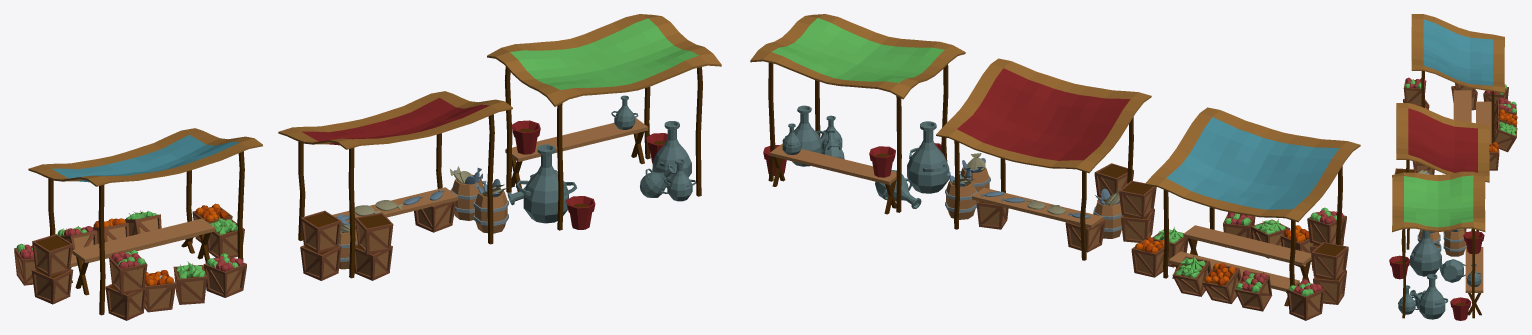
File: props.fbx
3 renders of one model, left to right at view 1: azimuth 30°, elevation 25°; view 2: azimuth 150°, elevation 25°; view 3: azimuth 270°, elevation 25°, orthographic. The views are drawn at different scales.
Parts seen in each view (by area): view 1: polySurface483, polySurface528, polySurface636, polySurface493, polySurface585, polySurface484, polySurface543, polySurface643, polySurface541, polySurface490, polySurface542, polySurface641 (+26 smaller); view 2: polySurface636, polySurface528, polySurface483, polySurface493, polySurface585, polySurface484, polySurface523, polySurface643, polySurface543, polySurface473, polySurface490, polySurface541 (+21 smaller); view 3: polySurface636, polySurface483, polySurface528, polySurface493, polySurface490, polySurface585, polySurface484, polySurface537, polySurface494, polySurface580, polySurface544, polySurface497 (+18 smaller).
Boxes of the visible parts, bbox=[...] form: polySurface483: bbox=[487, 14, 721, 106]; polySurface528: bbox=[278, 91, 512, 149]; polySurface636: bbox=[28, 128, 262, 186]; polySurface493: bbox=[515, 144, 576, 223]; polySurface585: bbox=[72, 218, 215, 262]; polySurface484: bbox=[505, 118, 648, 161]; polySurface543: bbox=[300, 210, 341, 253]; polySurface643: bbox=[32, 234, 72, 276]; polySurface541: bbox=[355, 212, 393, 254]; polySurface490: bbox=[652, 121, 691, 185]; polySurface542: bbox=[300, 245, 341, 280]; polySurface641: bbox=[31, 268, 73, 304]; polySurface636: bbox=[1145, 107, 1360, 222]; polySurface528: bbox=[936, 58, 1151, 173]; polySurface483: bbox=[750, 14, 965, 99]; polySurface493: bbox=[907, 121, 949, 193]; polySurface585: bbox=[1183, 225, 1311, 265]; polySurface484: bbox=[769, 144, 896, 184]; polySurface523: bbox=[972, 187, 1103, 228]; polySurface643: bbox=[1311, 242, 1348, 280]; polySurface543: bbox=[1119, 180, 1156, 218]; polySurface473: bbox=[1286, 283, 1324, 320]; polySurface490: bbox=[782, 105, 826, 166]; polySurface541: bbox=[1094, 163, 1133, 197]; polySurface636: bbox=[1411, 14, 1504, 93]; polySurface483: bbox=[1392, 171, 1485, 232]; polySurface528: bbox=[1396, 103, 1489, 182]; polySurface493: bbox=[1410, 230, 1442, 276]; polySurface490: bbox=[1416, 274, 1448, 319]; polySurface585: bbox=[1453, 90, 1471, 122]; polySurface484: bbox=[1465, 247, 1483, 292]; polySurface537: bbox=[1443, 228, 1466, 256]; polySurface494: bbox=[1439, 259, 1465, 282]; polySurface580: bbox=[1476, 101, 1491, 144]; polySurface544: bbox=[1494, 120, 1517, 152]; polySurface497: bbox=[1450, 297, 1471, 320].
Size of the model in its own units: 22.41 by 5.32 by 5.74.
